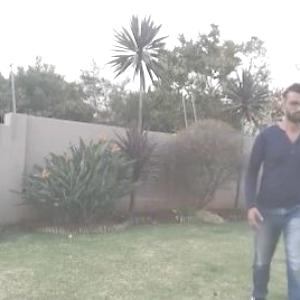follow: (260, 86, 299, 299)
